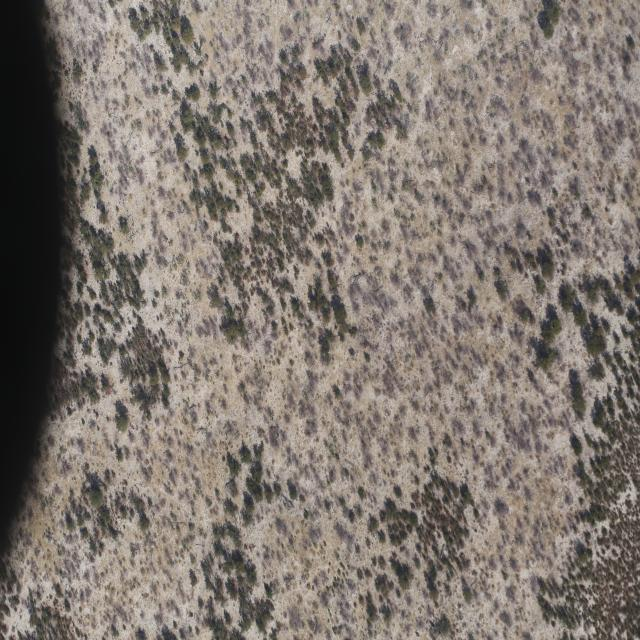elephant: (440, 630, 447, 638), (429, 624, 436, 631), (416, 635, 420, 638)
